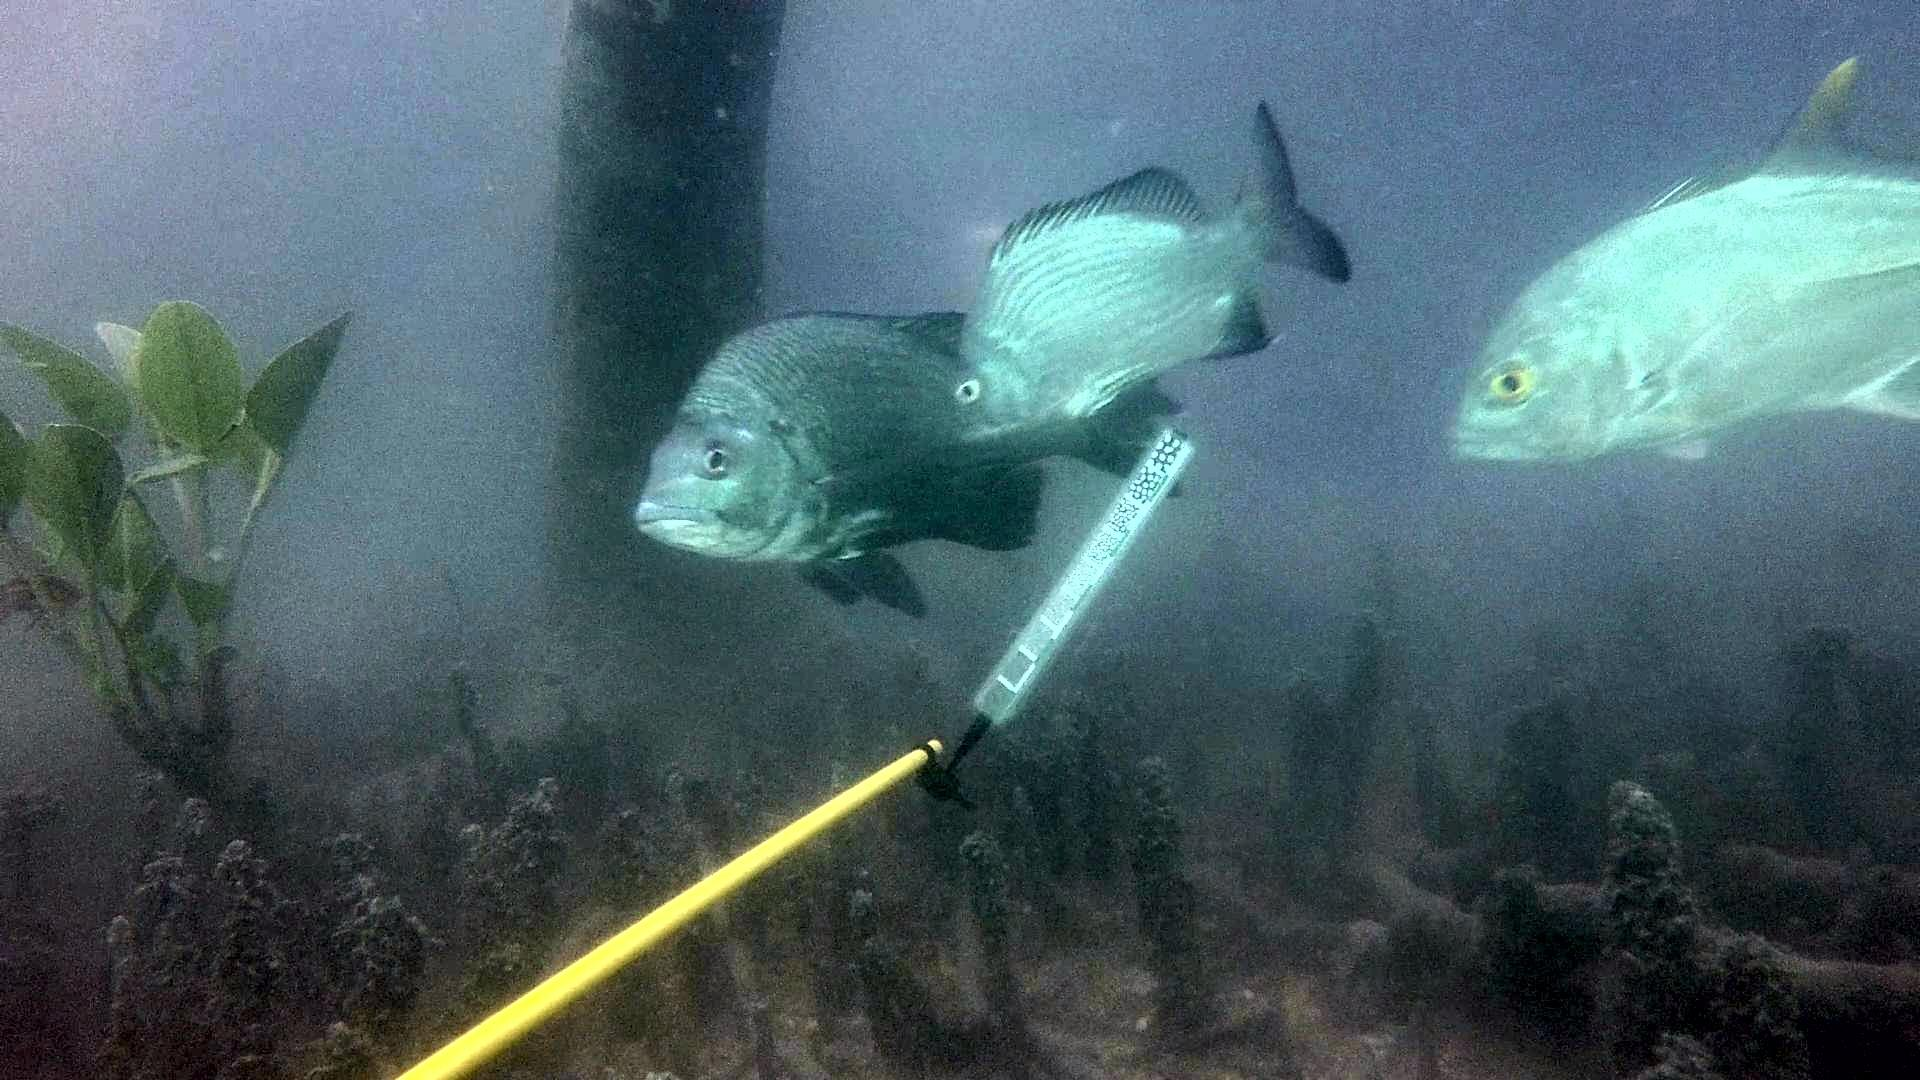acanthopagrus palmaris: (624, 298, 1192, 624), (940, 90, 1361, 454)
caranx: (1441, 42, 1920, 483)
